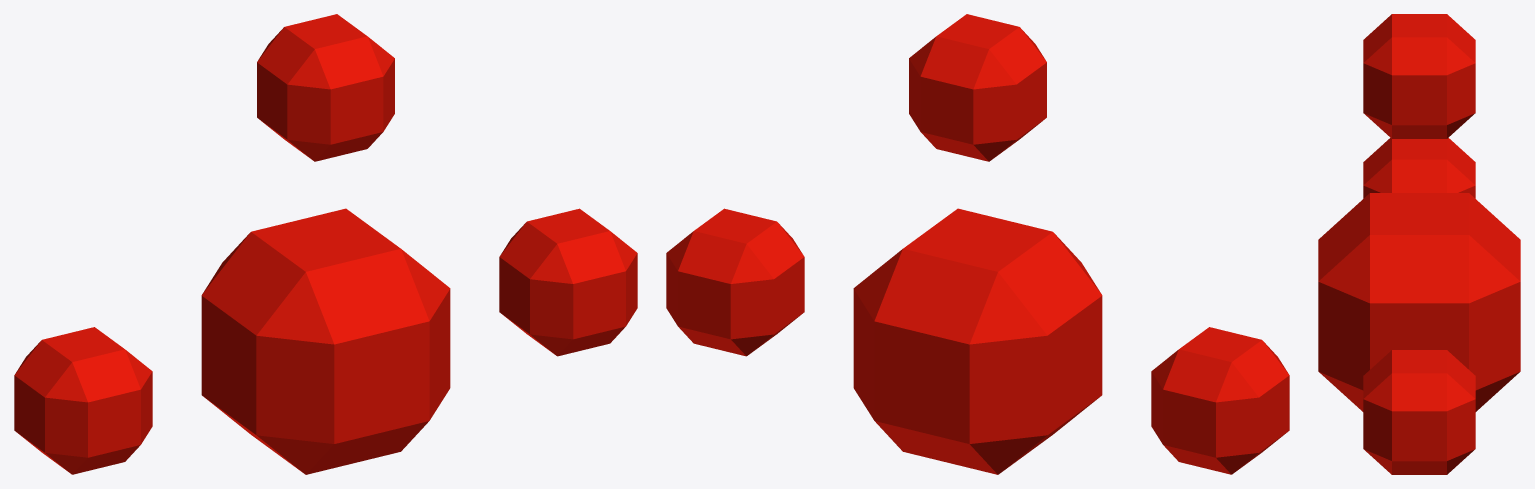
Rendered from stone.gltf.
3 renders of one model, left to right at view 1: azimuth 30°, elevation 25°; view 2: azimuth 150°, elevation 25°; view 3: azimuth 270°, elevation 25°, orthographic. The views are drawn at different scales.
Visible parts, largest first — view 1: Cube, Cube.003, Cube.001, Cube.002; view 2: Cube, Cube.003, Cube.001, Cube.002; view 3: Cube, Cube.001, Cube.002, Cube.003.
Part boxes in pixels (x1,y1,x2,y2): Cube: (201, 208, 450, 474); Cube.003: (14, 327, 152, 474); Cube.001: (499, 208, 637, 356); Cube.002: (257, 14, 394, 161); Cube: (853, 208, 1102, 474); Cube.003: (1151, 327, 1289, 474); Cube.001: (666, 208, 804, 356); Cube.002: (909, 14, 1046, 161); Cube: (1318, 193, 1520, 411); Cube.001: (1363, 350, 1475, 474); Cube.002: (1363, 14, 1475, 138); Cube.003: (1363, 138, 1475, 198).
Size of the model in its own units: 6.11 by 4.05 by 2.
